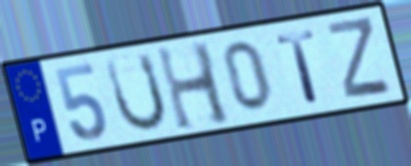0: (222, 37, 277, 116)
5: (52, 60, 109, 144)
H: (153, 39, 235, 135)
T: (273, 27, 323, 106)
U: (102, 49, 170, 135)
Z: (325, 14, 395, 100)
